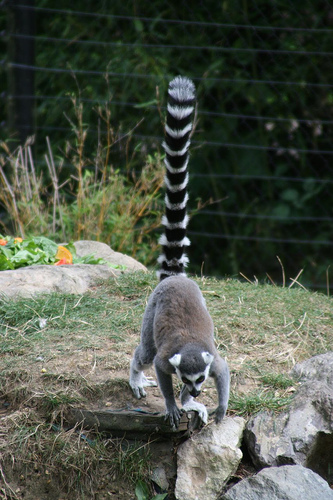cat: (126, 75, 231, 430)
